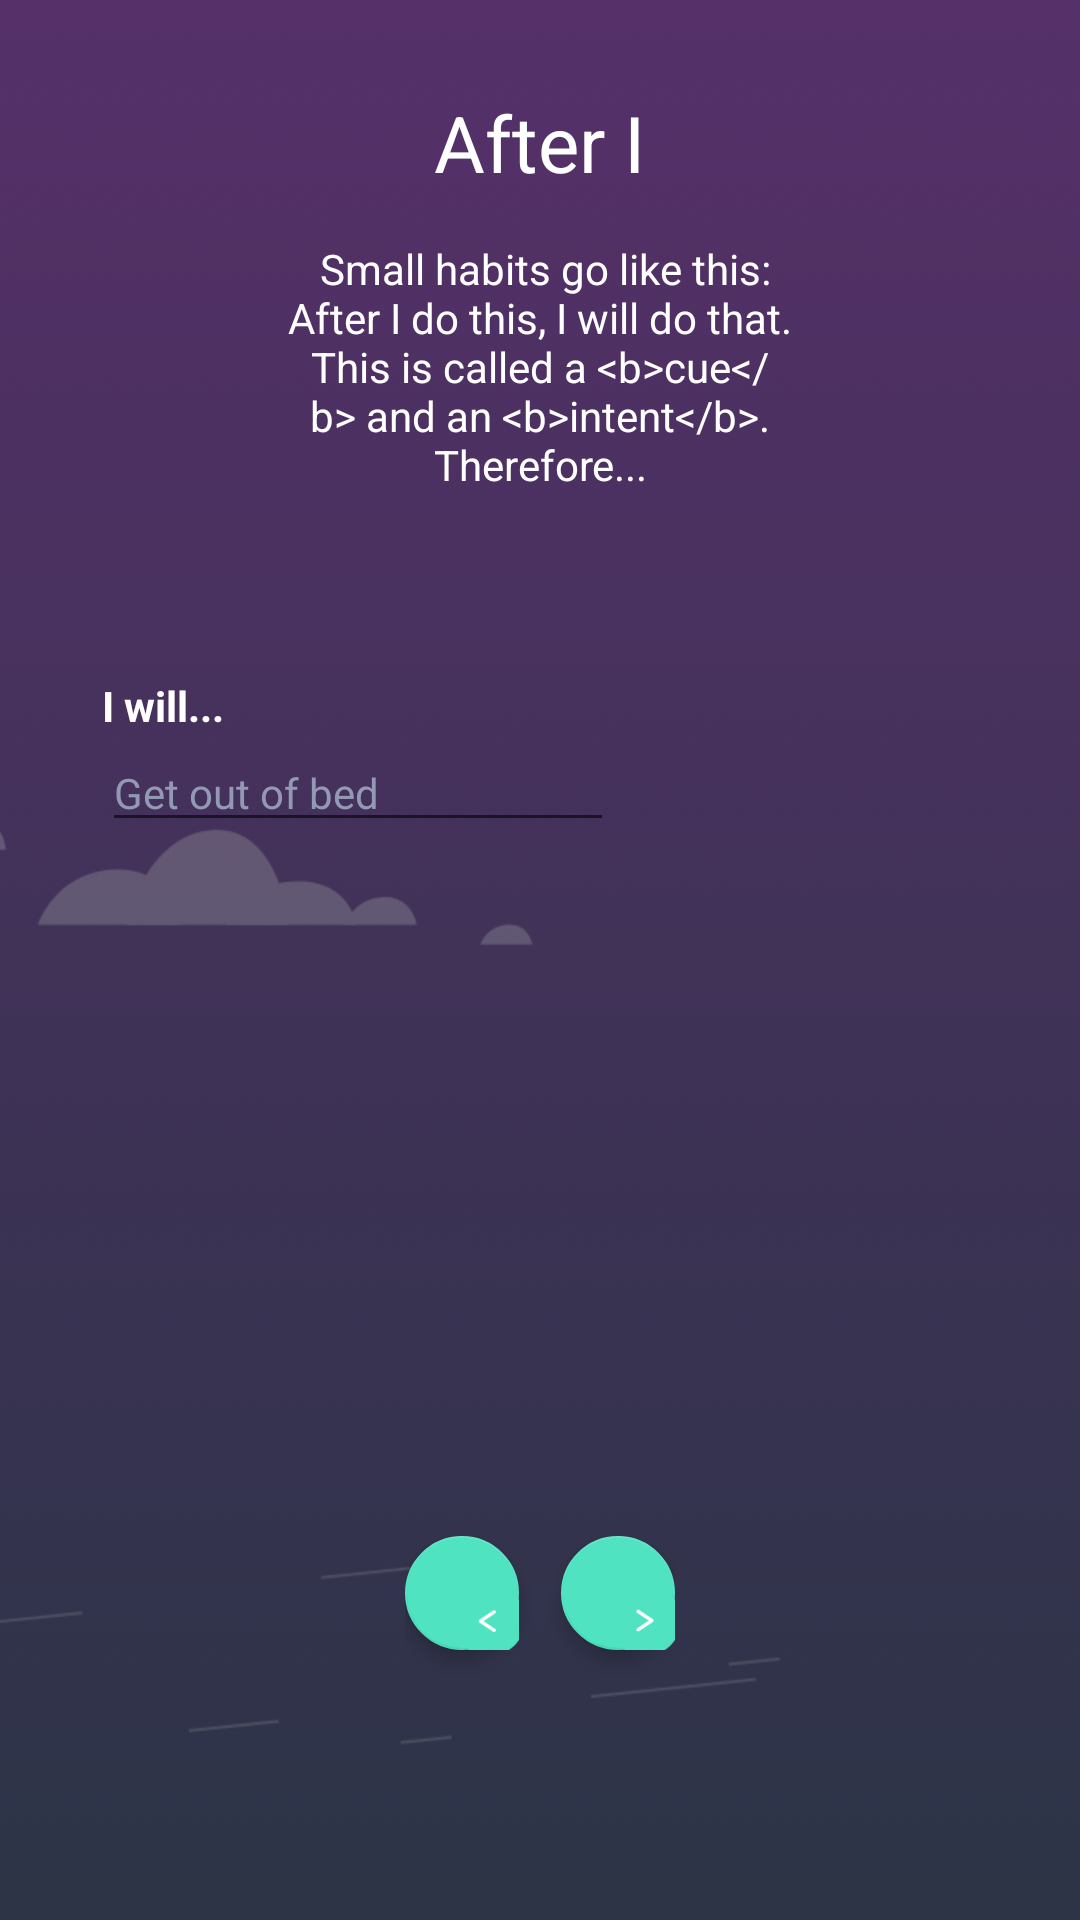

Where to tap for icons on this 1080px x 1920px app screen, as point (x, y):
steps next: point (618, 1593)
steps previous: point (462, 1593)
